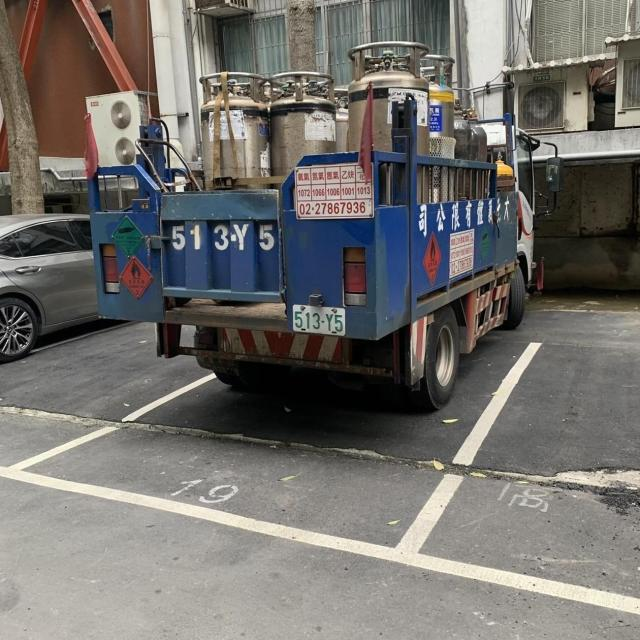W: (286, 302, 353, 339)
